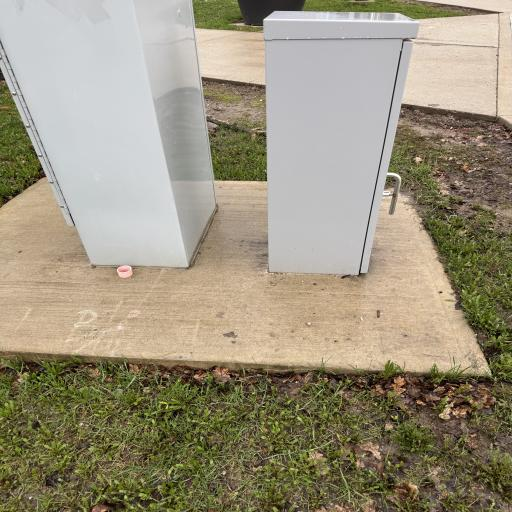Electrical Box: (1, 2, 217, 267), (265, 10, 423, 274)
